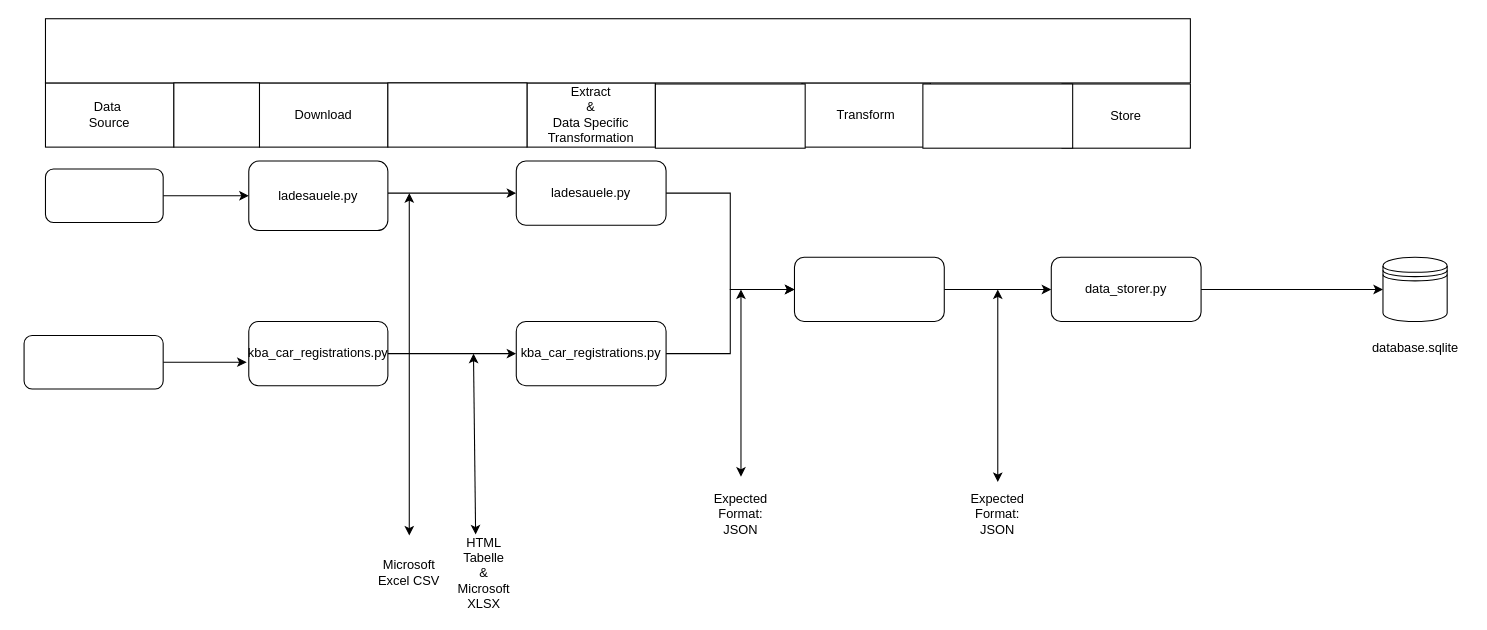
Image size: 1487x630. Some labels were removed from this diagram. Each missing label, with the box of its shape:
DATA PIPELINE: (44, 18, 1190, 83)
data_transformer.py: (793, 256, 944, 322)
Datasource1 Ladesaeulenregister_CSV: (23, 334, 163, 389)
Datasource2 Car Registration: (44, 168, 163, 223)
